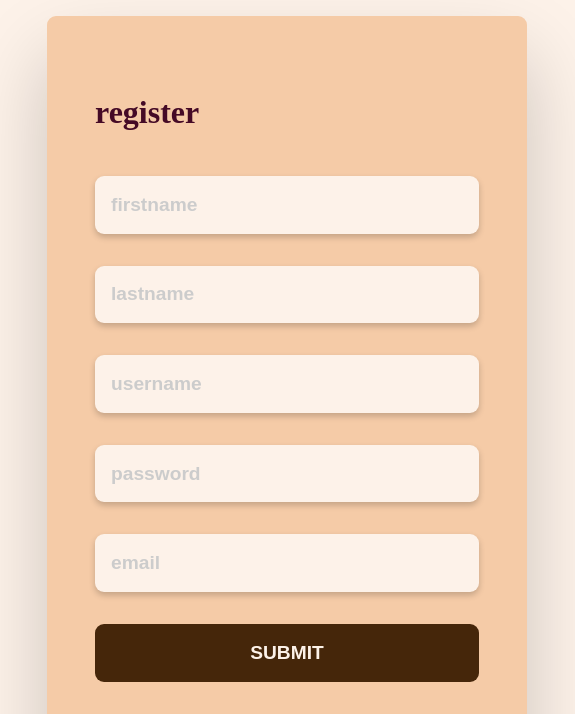
Test: renders register page › form doesn't submit when inputs are empty but shows errors
This screenshot has width=575, height=714.
Click the button "submit": point(287, 653) top-left (95, 624), bottom-right (479, 682)
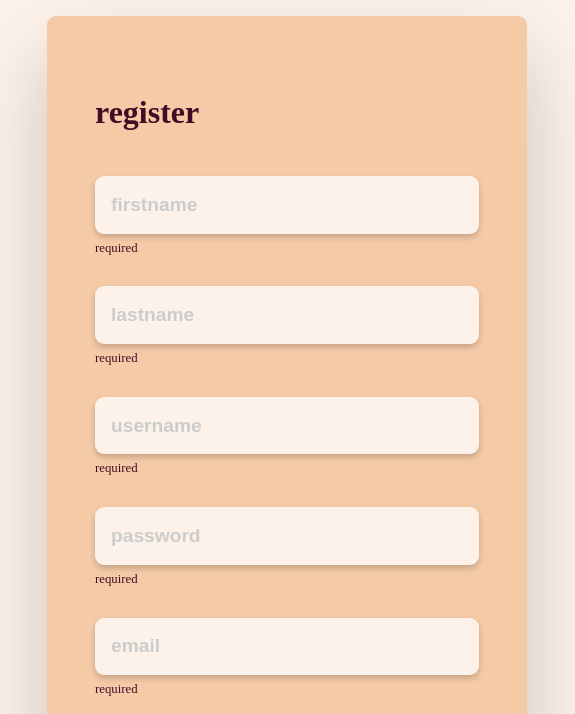
Expected: the text "required" is shown 5 times, top-left (95, 241), bottom-right (138, 255); top-left (95, 351), bottom-right (138, 365); top-left (95, 461), bottom-right (138, 475); top-left (95, 572), bottom-right (138, 586); top-left (95, 682), bottom-right (138, 696)
